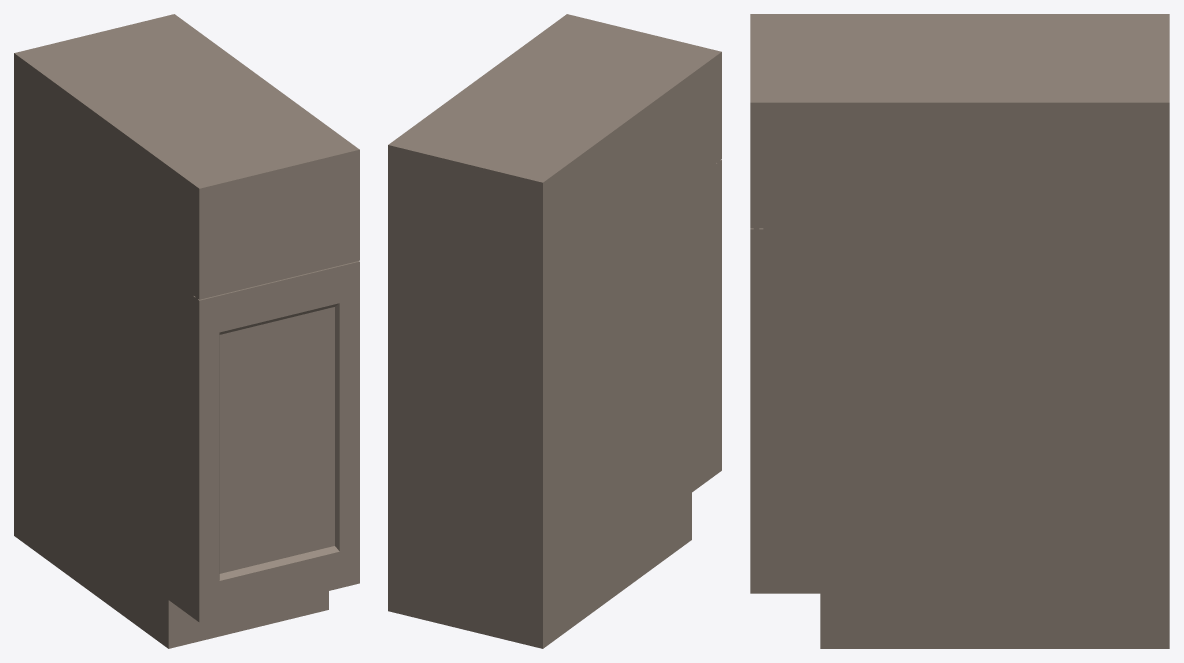
The model's file is Base-Cabinet-Single-Door_W12in_1D.glb.
3 views of the same model, side by side, from view 1: azimuth 30°, elevation 25°; view 2: azimuth 150°, elevation 25°; view 3: azimuth 270°, elevation 25° (orthographic). The views are drawn at different scales.
Visible parts, largest first — view 1: Base-Cabinet-Single-Door_W12in_1D; view 2: Base-Cabinet-Single-Door_W12in_1D; view 3: Base-Cabinet-Single-Door_W12in_1D.
Boxes of the visible parts, box(x1,y1,x2,y2) form: Base-Cabinet-Single-Door_W12in_1D: box(14, 14, 359, 648); Base-Cabinet-Single-Door_W12in_1D: box(388, 14, 721, 648); Base-Cabinet-Single-Door_W12in_1D: box(750, 14, 1169, 648).
Size of the model in its own units: 0.3048 by 0.8769 by 0.61.
